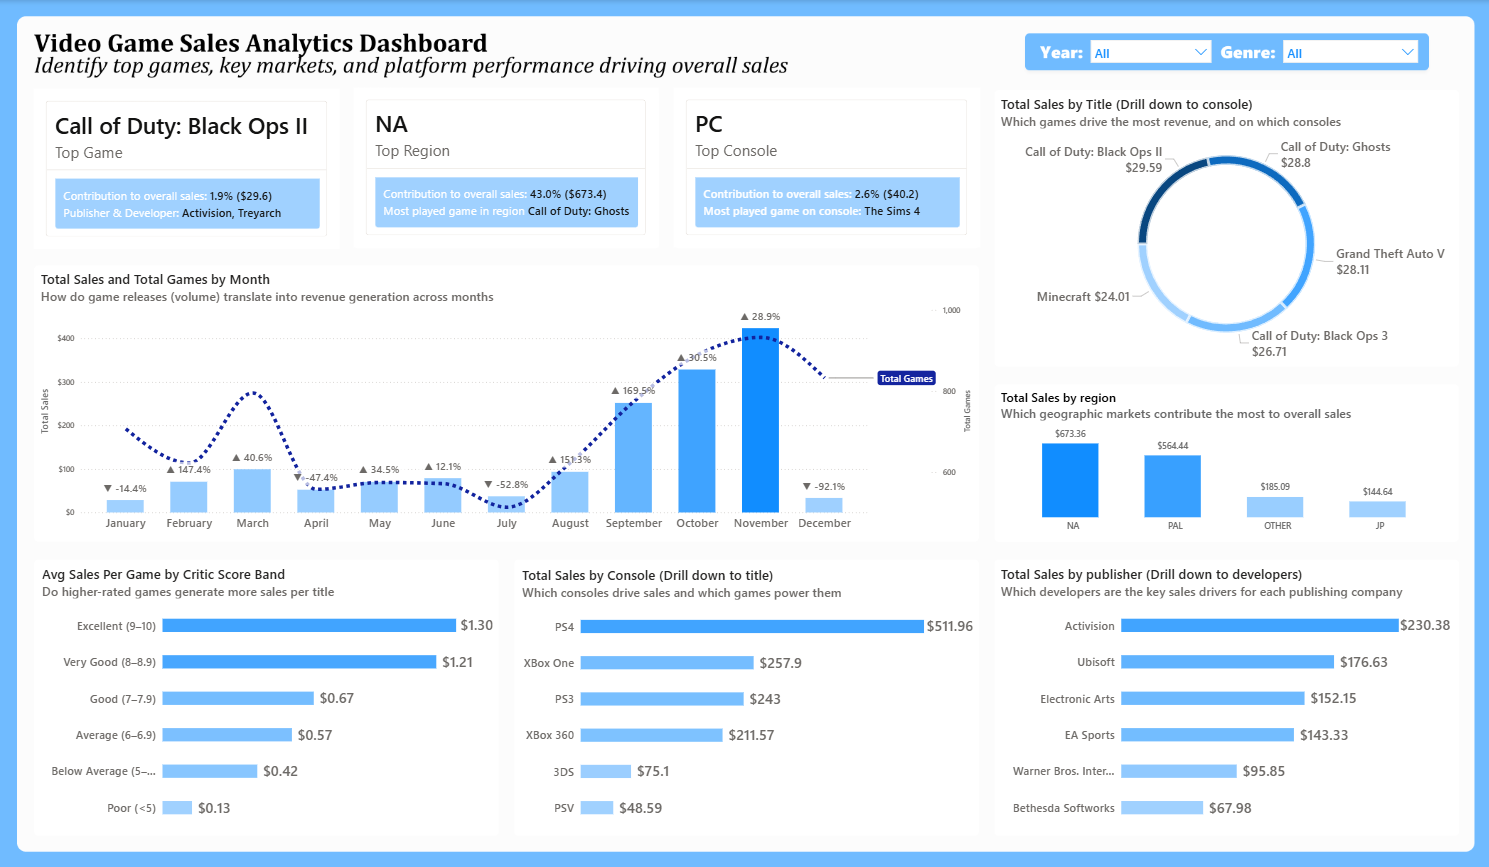

What the dashboard file says about the page in this screenshot:
{"tool":"powerbi","page":{"name":"Video Game Sales Analytics Dashboard","canvas":[2096,1222],"ordinal":0},"visuals":[{"type":"clusteredBarChart","title":"Total Sales by Console (Drill down to title)","fields":{"Category":["fact_video_games_sales.console","fact_video_games_sales.title"],"Y":["Calculated Measures.Total Sales"]},"box":[724.2,786.5,654.2,391.3],"z":0},{"type":"clusteredBarChart","title":"Total Sales by publisher (Drill down to developers)","fields":{"Y":["Calculated Measures.Total Sales"],"Category":["fact_video_games_sales.publisher","fact_video_games_sales.developer"]},"box":[1397.9,784.6,652.2,393.3],"z":1000},{"type":"clusteredBarChart","fields":{"Category":["dim_critic_band.Critic Score Band"],"Y":["Calculated Measures.Avg Sales Per Game"]},"box":[48.7,784.6,654.2,393.3],"z":2000},{"type":"lineClusteredColumnComboChart","title":"Total Sales and Total Games by Month","fields":{"Category":["date_table.Month"],"Y":["Calculated Measures.Revenue"],"Y2":["Calculated Measures.Total Games"]},"box":[47.4,369.6,1332.3,392.3],"z":3000},{"type":"donutChart","title":"Total Sales by Title (Drill down to console)","fields":{"Category":["fact_video_games_sales.title","fact_video_games_sales.console"],"Y":["Calculated Measures.Revenue"]},"box":[1398.6,123.2,653.8,392.3],"z":4000},{"type":"clusteredColumnChart","fields":{"Category":["fact_video_games_sales.region"],"Y":["Calculated Measures.Revenue"]},"box":[1398,536,654,226],"z":5000},{"type":"slicer","title":"Year","fields":{"Values":["date_table.Year"]},"box":[1520,48,200,52],"z":6000},{"type":"slicer","title":"Year","fields":{"Values":["fact_video_games_sales.genre"]},"box":[1790,48,220,52],"z":7000},{"type":"cardVisual","fields":{"Data":["Top Game Metrices.Top Game"]},"box":[46.7,124.6,430.3,225.8],"z":8000},{"type":"cardVisual","fields":{"Data":["Top Region Metrices.Top Region"]},"box":[498.2,123.1,429,225.1],"z":9000},{"type":"cardVisual","fields":{"Data":["Top Console Metrices.Top Console"]},"box":[948.4,123.1,430.9,225.1],"z":10000}]}

Visuals, with their boxes in screenshot pixels (x1, y1, x2, y2), scaled from the page's 2096x1222 canvas onto the 1489x867 screenshot:
"Total Sales by Console (Drill down to title)" clusteredBarChart: detection(514, 558, 979, 836)
"Total Sales by publisher (Drill down to developers)" clusteredBarChart: detection(993, 557, 1456, 836)
clusteredBarChart - dim_critic_band.Critic Score Band x Calculated Measures.Avg Sales Per Game: detection(35, 557, 499, 836)
"Total Sales and Total Games by Month" lineClusteredColumnComboChart: detection(34, 262, 980, 541)
"Total Sales by Title (Drill down to console)" donutChart: detection(994, 87, 1458, 366)
clusteredColumnChart - fact_video_games_sales.region x Calculated Measures.Revenue: detection(993, 380, 1458, 541)
"Year" slicer: detection(1080, 34, 1222, 71)
"Year" slicer: detection(1272, 34, 1428, 71)
cardVisual - Top Game Metrices.Top Game: detection(33, 88, 339, 249)
cardVisual - Top Region Metrices.Top Region: detection(354, 87, 659, 247)
cardVisual - Top Console Metrices.Top Console: detection(674, 87, 980, 247)
